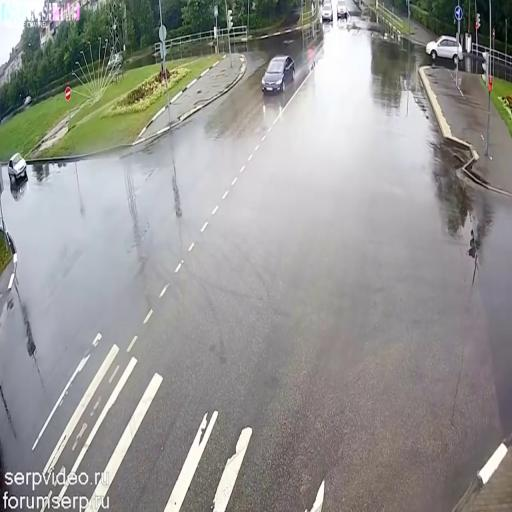小汽车: (260, 50, 299, 100), (422, 33, 466, 65), (6, 149, 33, 189), (322, 2, 333, 22)
